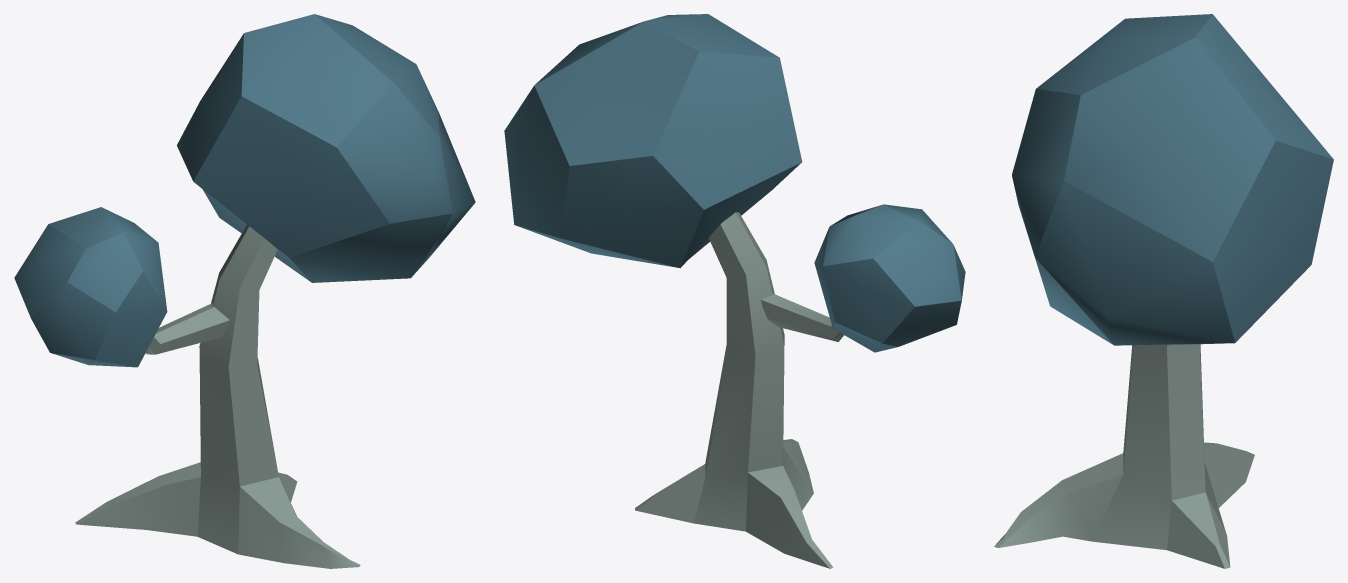
Rendered from RuneTree_Mesh.fbx.
The picture shows the model from 3 angles, left to right: view 1: azimuth 30°, elevation 25°; view 2: azimuth 150°, elevation 25°; view 3: azimuth 270°, elevation 25°; orthographic projection. The views are drawn at different scales.
Parts seen in each view (by area): view 1: RuneTree_Mesh; view 2: RuneTree_Mesh; view 3: RuneTree_Mesh.
Boxes of the visible parts, x1,y1,x2,y2 form: RuneTree_Mesh: (14,14,475,568); RuneTree_Mesh: (504,14,965,568); RuneTree_Mesh: (994,14,1333,568).
Size of the model in its own units: 288 by 303 by 175.
